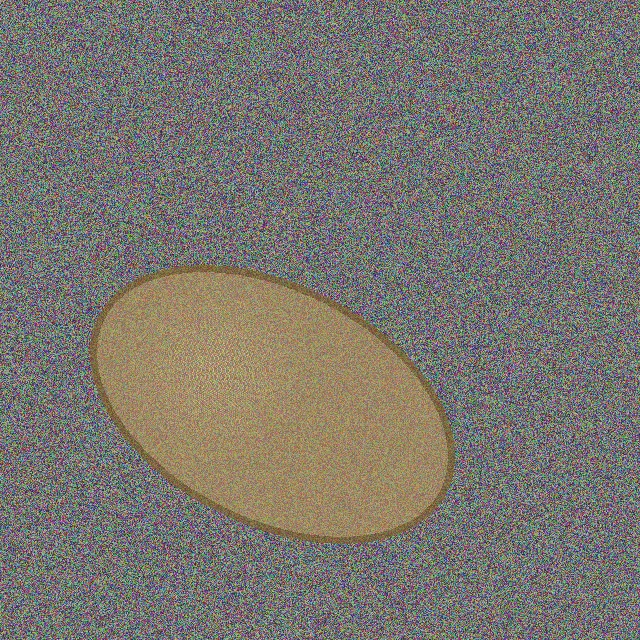lens: (93, 269, 451, 539)
